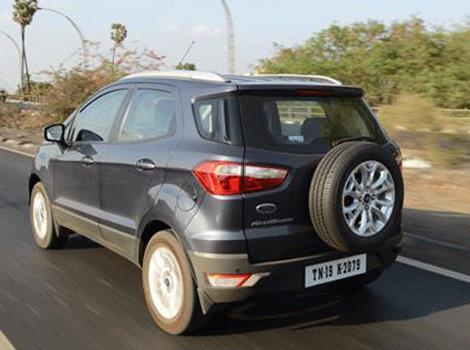Carro: (26, 64, 409, 337)
